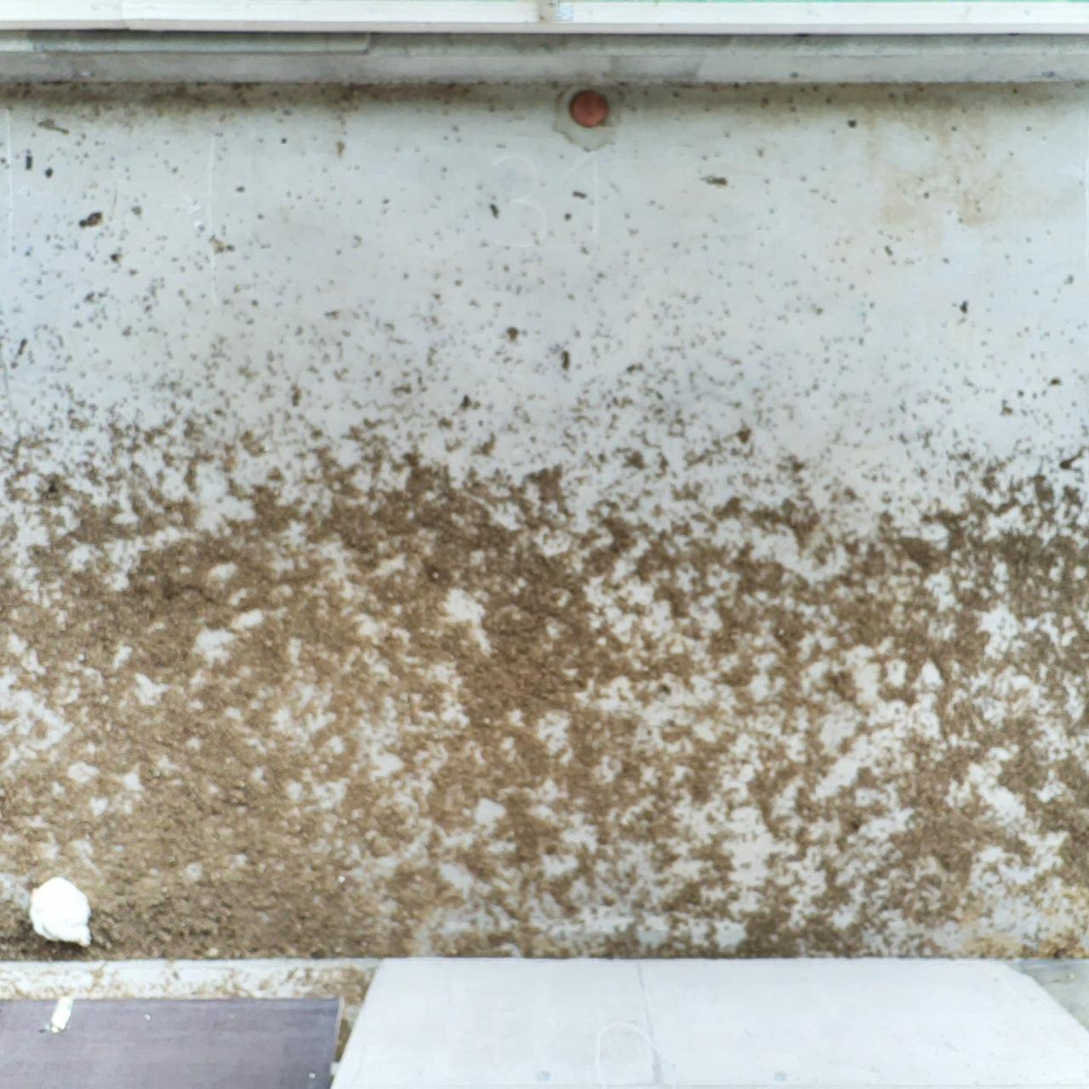chicken: (26, 871, 99, 950)
